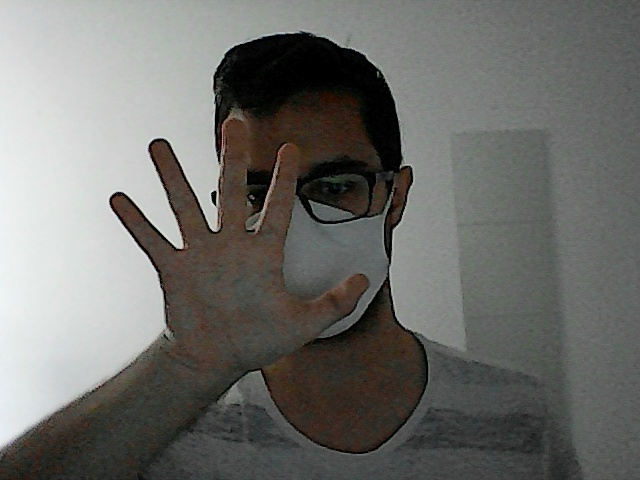jump: (104, 106, 378, 370)
